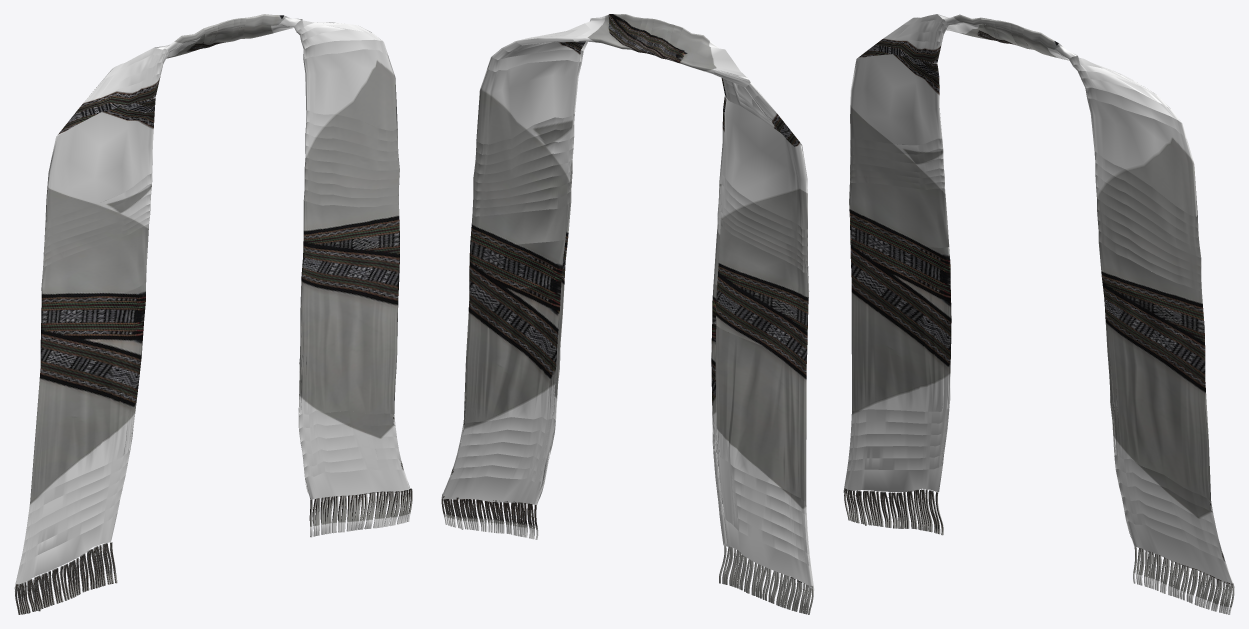
File: sash_new.glb
3 views of the same model, side by side, from view 1: azimuth 30°, elevation 25°; view 2: azimuth 150°, elevation 25°; view 3: azimuth 330°, elevation 25° (orthographic). The views are drawn at different scales.
Parts seen in each view (by area): view 1: all; view 2: all; view 3: all.
Part boxes in pixels (x1,y1,x2,y2): all: (14, 14, 412, 614); all: (441, 14, 814, 614); all: (843, 14, 1234, 614).
Size of the model in its own units: 1.76 by 2.4 by 0.2088.
Materials: 1 (1 with a texture image).
